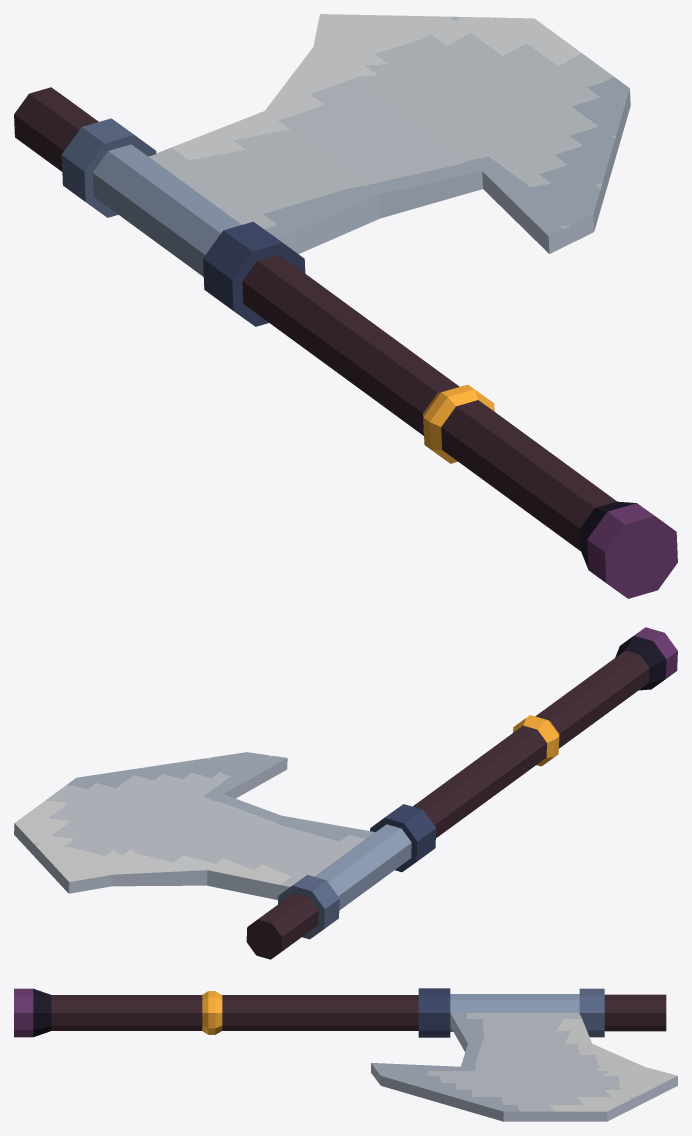
File: axe.glb
The picture shows the model from 3 angles, top to bottom: view 1: azimuth 30°, elevation 25°; view 2: azimuth 150°, elevation 25°; view 3: azimuth 270°, elevation 25°; orthographic projection. The views are drawn at different scales.
Visible parts, largest first — view 1: Axe; view 2: Axe; view 3: Axe.
Boxes of the visible parts, <box> form: Axe: <box>14,14,677,598</box>; Axe: <box>14,627,677,959</box>; Axe: <box>14,988,677,1121</box>.
Bounding box in the file's own units: 0.677 × 0.1051 × 1.5.
Materials: 1 (1 with a texture image).
